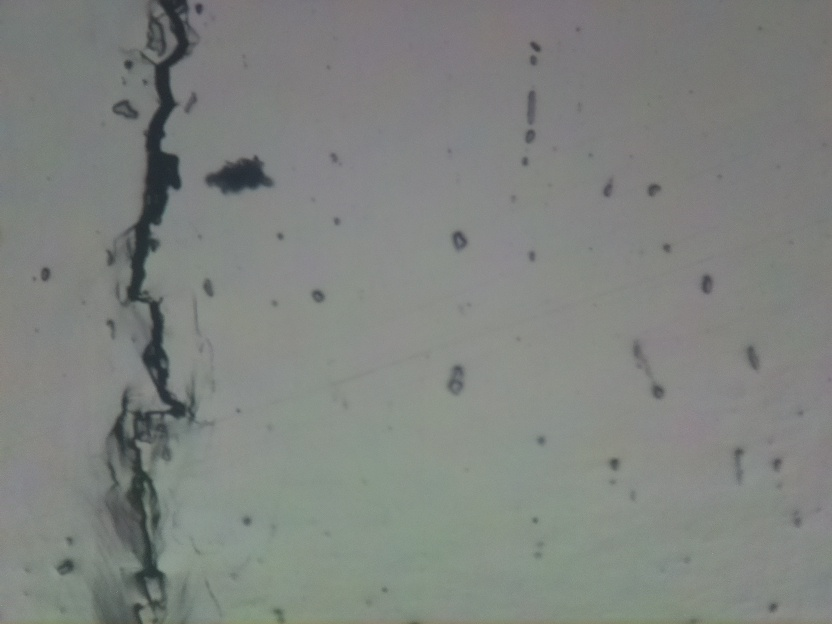crack: (106, 0, 198, 622)
